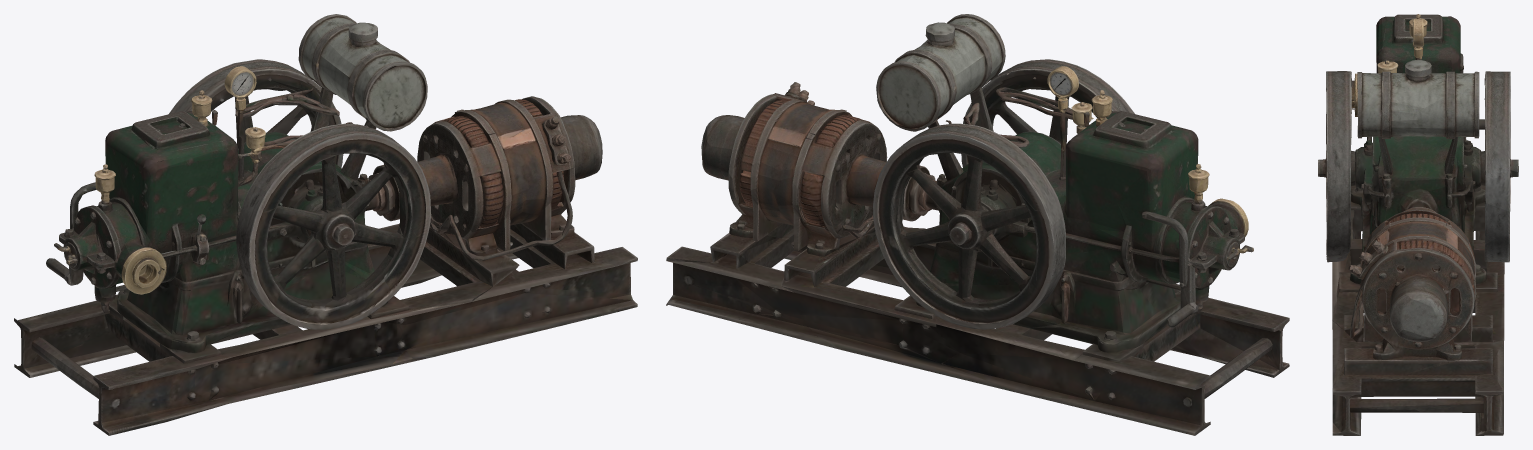
The model's file is generator.glb.
3 renders of one model, left to right at view 1: azimuth 30°, elevation 25°; view 2: azimuth 150°, elevation 25°; view 3: azimuth 270°, elevation 25°, orthographic. The views are drawn at different scales.
Parts seen in each view (by area): view 1: Mesh_0; view 2: Mesh_0; view 3: Mesh_0.
Boxes of the visible parts, x1,y1,x2,y2 form: Mesh_0: [14, 14, 637, 435]; Mesh_0: [666, 14, 1289, 435]; Mesh_0: [1318, 14, 1518, 435].
Bounding box in the file's own units: 1.9 × 1.03 × 0.6851.
Materials: 1 (1 with a texture image).
